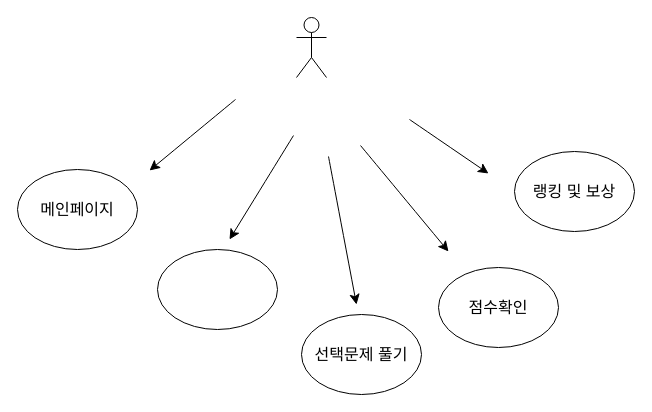
This 652x412 diagram has some shape labels left out. Here are the shapes that lost their labels. From the top down, the box of each, then its label:
(296, 16, 326, 78): User
(156, 248, 278, 330): 게임 선택 닉네임,게임종류선택
